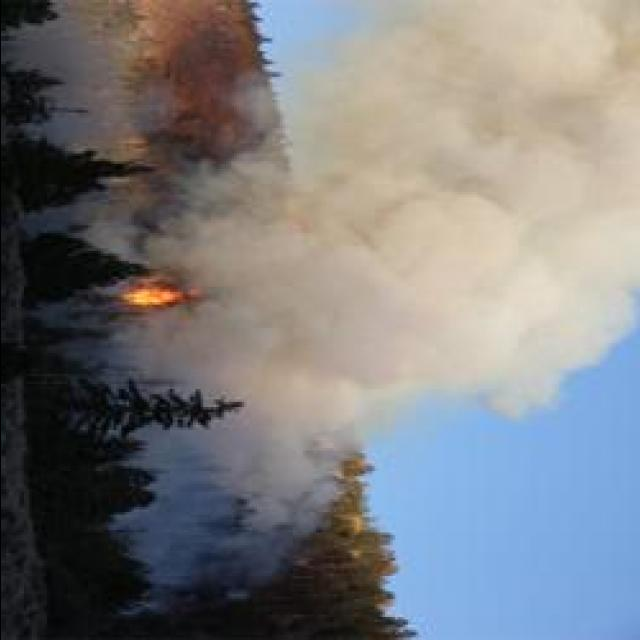smoke: (284, 1, 638, 430), (194, 151, 276, 566)
